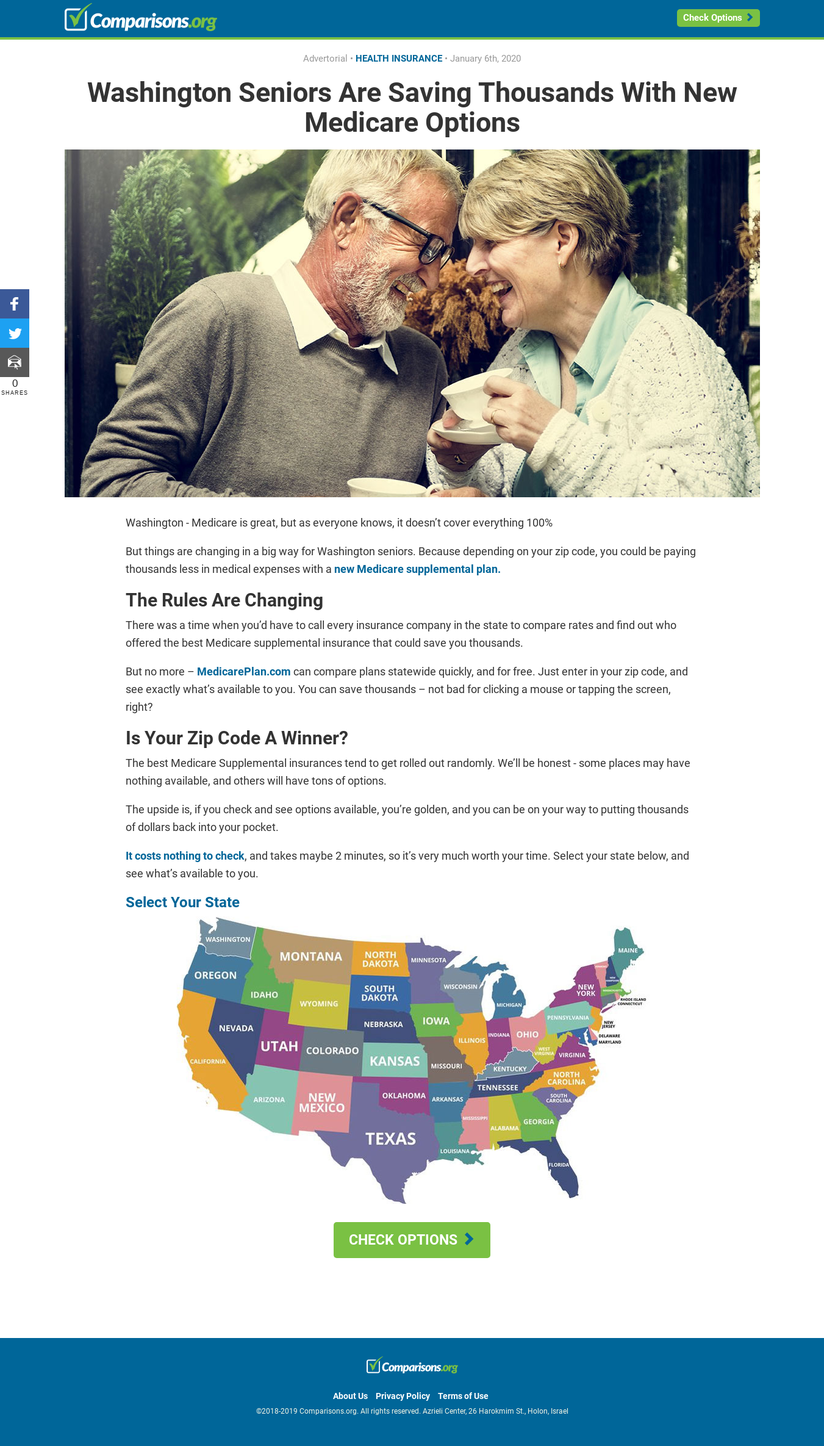fake_button: (305, 1200, 510, 1281), (663, 0, 773, 37)
